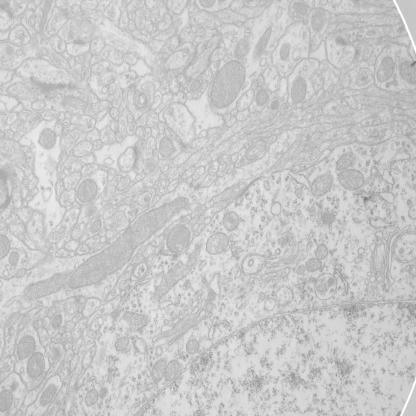mitochondria: (208, 58, 248, 109), (150, 260, 192, 298), (166, 224, 191, 255), (122, 308, 150, 333), (310, 172, 335, 198), (337, 169, 366, 191), (205, 231, 229, 255), (289, 74, 308, 104), (26, 352, 46, 380), (15, 335, 37, 360), (77, 178, 98, 203), (376, 56, 394, 82), (163, 360, 184, 382), (399, 59, 416, 85), (38, 384, 58, 406), (38, 128, 58, 150), (222, 210, 241, 233), (336, 152, 360, 170), (150, 356, 167, 381), (157, 136, 176, 158), (40, 0, 52, 32), (0, 388, 13, 413), (304, 256, 323, 272), (314, 242, 330, 259), (254, 88, 269, 106), (84, 388, 98, 407), (0, 235, 11, 258), (115, 336, 131, 351), (184, 338, 199, 354), (293, 1, 308, 16), (188, 78, 202, 92), (90, 219, 103, 234), (8, 250, 20, 266), (294, 262, 306, 277), (280, 42, 290, 60), (98, 386, 108, 400), (51, 316, 62, 328), (270, 98, 281, 110), (258, 291, 266, 300)
